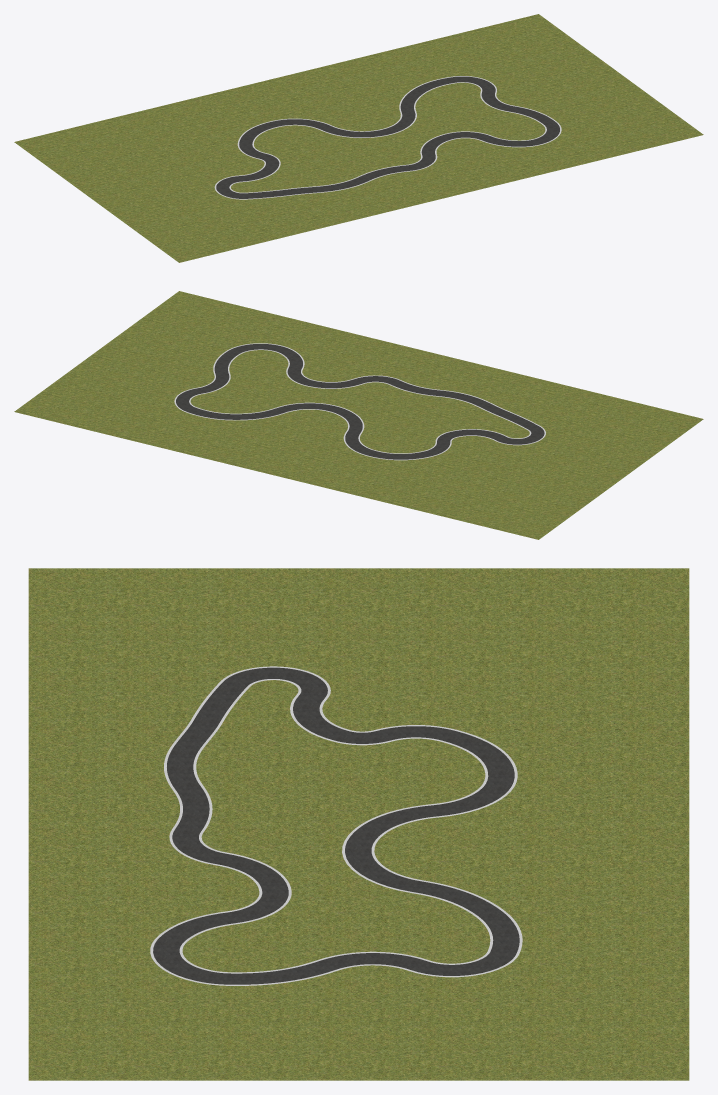
The model's file is track6.dae.
3 renders of one model, top to bottom at view 1: azimuth 30°, elevation 25°; view 2: azimuth 150°, elevation 25°; view 3: azimuth 270°, elevation 25°, orthographic. The views are drawn at different scales.
Visible parts, largest first — view 1: field, road, outerline, innerline; view 2: field, road, outerline, innerline; view 3: field, road, outerline, innerline.
Boxes of the visible parts, <box> form: field: <box>14,14,703,262</box>; road: <box>216,76,559,198</box>; outerline: <box>214,76,561,199</box>; innerline: <box>229,82,546,193</box>; field: <box>14,291,703,539</box>; road: <box>176,344,544,459</box>; outerline: <box>174,343,545,460</box>; innerline: <box>189,349,531,453</box>; field: <box>28,568,689,1080</box>; road: <box>153,667,519,984</box>; outerline: <box>150,666,522,985</box>; innerline: <box>179,679,493,973</box>.
Bounding box in the file's own units: 74.83 × 40.8 × 0.01.
3 materials, 3 textured.
